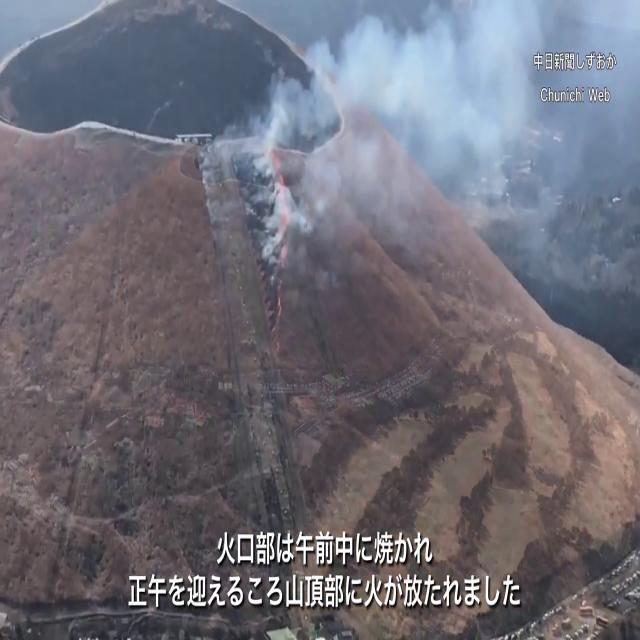Smoke: (206, 1, 624, 255)
